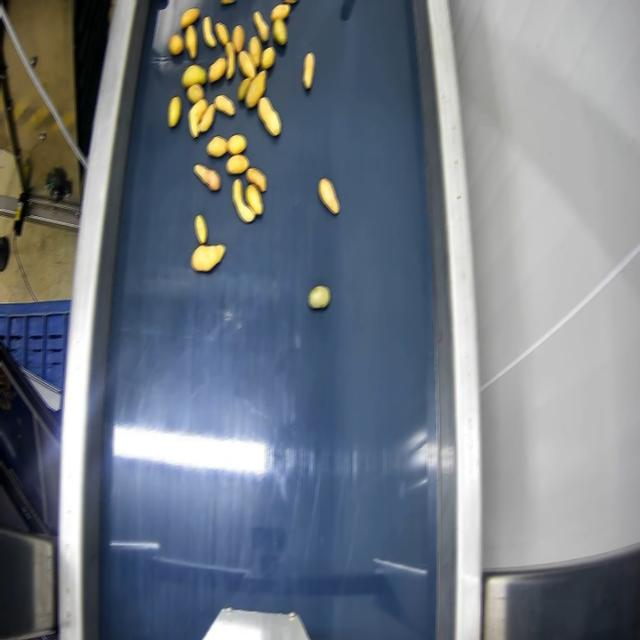Baby Potato: (231, 178, 254, 223), (257, 96, 280, 135), (191, 245, 224, 271), (244, 71, 265, 107), (319, 178, 338, 214), (194, 164, 219, 190), (189, 99, 206, 137), (181, 64, 206, 87), (245, 184, 262, 215), (208, 56, 227, 82), (197, 104, 214, 132), (253, 11, 268, 42), (239, 50, 255, 79), (308, 286, 329, 308), (226, 154, 248, 175), (213, 95, 234, 115), (246, 169, 265, 191), (248, 36, 261, 67), (202, 16, 215, 47), (207, 136, 226, 157), (303, 53, 314, 89), (180, 8, 199, 28), (226, 134, 245, 154), (231, 24, 244, 53), (168, 96, 180, 127), (273, 18, 286, 45), (186, 24, 196, 59), (225, 42, 234, 79), (270, 4, 289, 21), (237, 78, 251, 101), (168, 34, 183, 55), (215, 23, 228, 46), (261, 47, 274, 70), (196, 215, 206, 244), (187, 85, 203, 103), (221, 0, 234, 4), (284, 0, 295, 4)
